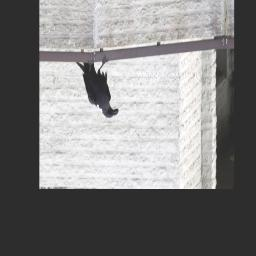Crow: (74, 49, 120, 120)
